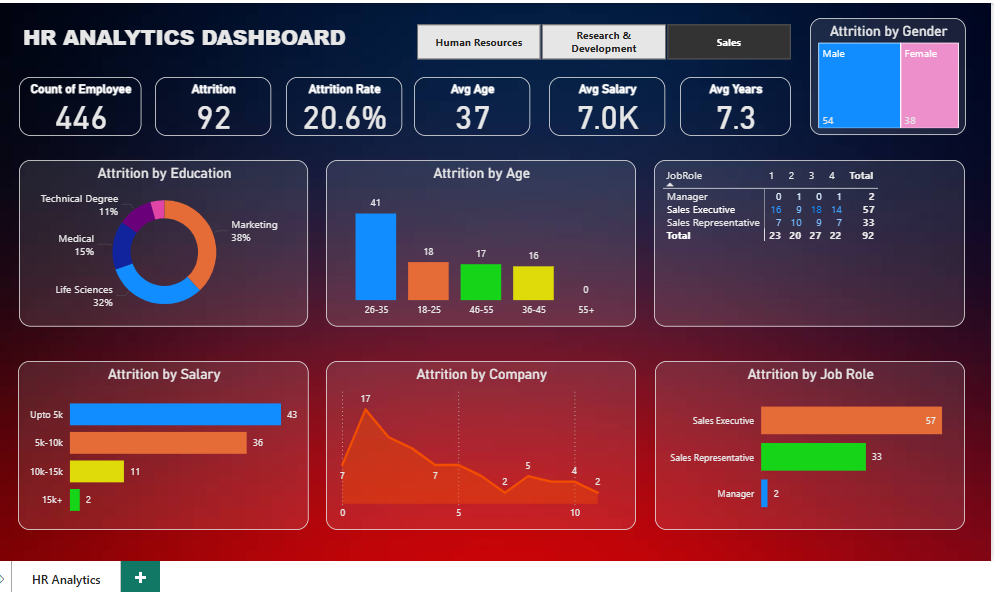

Layout of this report page (visuals, bound fields, positions):
{"tool":"powerbi","page":{"name":"Page 1","canvas":[1280,720],"ordinal":0},"visuals":[{"type":"card","title":"Count of Employee","fields":{"Values":["Count(HR_Analytics.EmpID)"]},"box":[26.4,95.1,158.5,75.7],"z":0},{"type":"card","title":"Attrition","fields":{"Values":["Sum(HR_Analytics.AttritionCount)"]},"box":[200.7,95.1,149.7,75.7],"z":1000},{"type":"card","title":"Attrition Rate","fields":{"Values":["HR_Analytics.AttritionRate"]},"box":[369.7,95.1,149.7,75.7],"z":2000},{"type":"card","title":"Avg Age","fields":{"Values":["Avg(HR_Analytics.Age)"]},"box":[535.2,95.1,149.7,75.7],"z":3000},{"type":"card","title":"Avg Years","fields":{"Values":["Avg(HR_Analytics.YearsAtCompany)"]},"box":[878.6,95.1,142.6,75.7],"z":4000},{"type":"card","title":"Avg Salary","fields":{"Values":["Avg(HR_Analytics.MonthlyIncome)"]},"box":[709.5,95.1,149.7,75.7],"z":5000},{"type":"donutChart","title":"Attrition by Education","fields":{"Category":["HR_Analytics.EducationField"],"Y":["Sum(HR_Analytics.AttritionCount)"]},"box":[26.4,202.5,373.3,214.8],"z":6000},{"type":"columnChart","title":"Attrition by Age","fields":{"Category":["HR_Analytics.AgeGroup"],"Y":["Sum(HR_Analytics.AttritionCount)"]},"box":[422.6,202.5,399.7,214.8],"z":7000},{"type":"pivotTable","fields":{"Rows":["HR_Analytics.JobRole"],"Columns":["HR_Analytics.JobSatisfaction"],"Values":["Sum(HR_Analytics.AttritionCount)"]},"box":[845.1,202.5,401.4,214.8],"z":8000},{"type":"barChart","title":"Attrition by Salary","fields":{"Category":["HR_Analytics.SalarySlab"],"Y":["Sum(HR_Analytics.AttritionCount)"]},"box":[24.6,461.3,375,218.3],"z":9000},{"type":"barChart","title":"Attrition by Job Role","fields":{"Y":["Sum(HR_Analytics.AttritionCount)"],"Category":["HR_Analytics.JobRole"]},"box":[846.9,461.3,399.7,218.3],"z":10000},{"type":"areaChart","title":"Attrition by Company","fields":{"Category":["HR_Analytics.YearsAtCompany"],"Y":["Sum(HR_Analytics.AttritionCount)"]},"box":[422.6,461.3,399.7,218.3],"z":11000},{"type":"treemap","title":"Attrition by Gender","fields":{"Values":["Sum(HR_Analytics.AttritionCount)"],"Group":["HR_Analytics.Gender"]},"box":[1045.8,19.4,200.7,151.4],"z":12000},{"type":"slicer","title":"Departments","fields":{"Values":["HR_Analytics.Department"]},"box":[513.4,20,532,58.6],"z":13000},{"type":"textbox","box":[25.7,20,463.4,60.1],"z":14000}]}

Visuals, with their boxes on the page's 1280x720 design canvas (x1, y1, x2, y2). These are canvas units, not pixel positions in the 994x592 screenshot, which may show the page scaled, cropped or inside an application window:
"Count of Employee" card: x1=26, y1=95, x2=185, y2=171
"Attrition" card: x1=201, y1=95, x2=350, y2=171
"Attrition Rate" card: x1=370, y1=95, x2=519, y2=171
"Avg Age" card: x1=535, y1=95, x2=685, y2=171
"Avg Years" card: x1=879, y1=95, x2=1021, y2=171
"Avg Salary" card: x1=710, y1=95, x2=859, y2=171
"Attrition by Education" donutChart: x1=26, y1=202, x2=400, y2=417
"Attrition by Age" columnChart: x1=423, y1=202, x2=822, y2=417
pivotTable - HR_Analytics.JobRole x HR_Analytics.JobSatisfaction: x1=845, y1=202, x2=1246, y2=417
"Attrition by Salary" barChart: x1=25, y1=461, x2=400, y2=680
"Attrition by Job Role" barChart: x1=847, y1=461, x2=1247, y2=680
"Attrition by Company" areaChart: x1=423, y1=461, x2=822, y2=680
"Attrition by Gender" treemap: x1=1046, y1=19, x2=1246, y2=171
"Departments" slicer: x1=513, y1=20, x2=1045, y2=79
textbox: x1=26, y1=20, x2=489, y2=80
